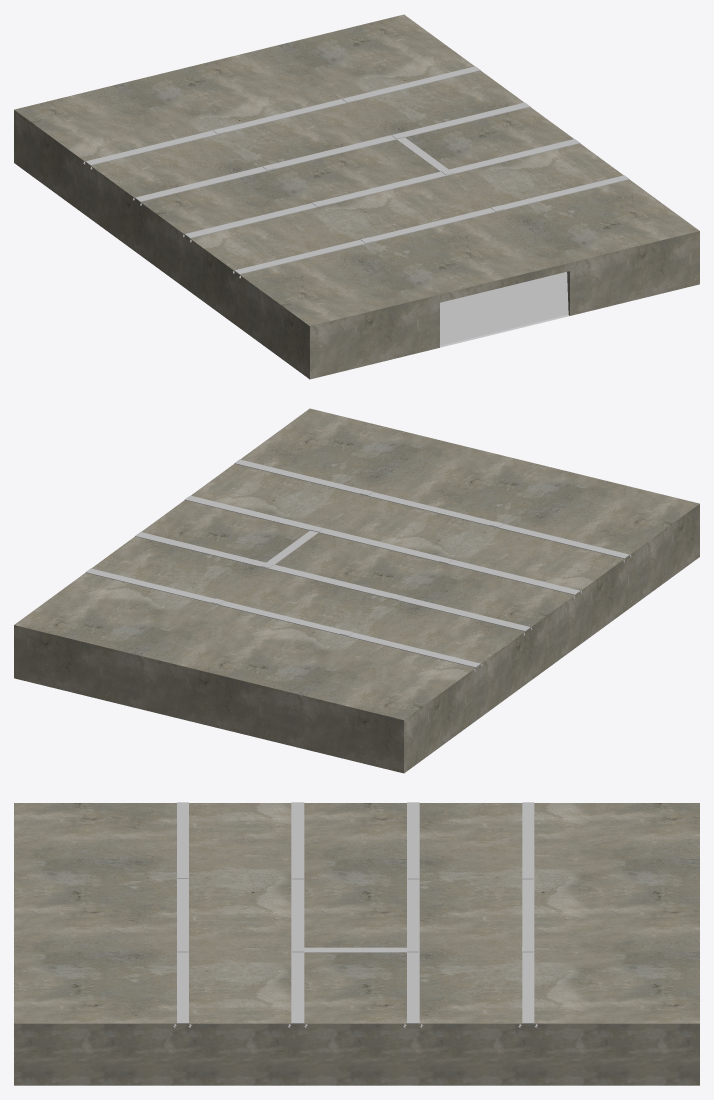
Rendered from old room 1.fbx.
3 views of the same model, one above another, from view 1: azimuth 30°, elevation 25°; view 2: azimuth 150°, elevation 25°; view 3: azimuth 270°, elevation 25° (orthographic). The views are drawn at different scales.
Visible parts, largest first — view 1: Cube.009, Cube.010, Cube.012, Cube.011, Cube.013; view 2: Cube.009, Cube.012, Cube.010, Cube.013, Cube.011; view 3: Cube.009, Cube.010, Cube.012, Cube.013, Cube.011, Cube.015.
Boxes of the visible parts, <box> form: Cube.009: <box>14,14,699,379</box>; Cube.010: <box>184,139,579,238</box>; Cube.012: <box>135,102,530,201</box>; Cube.011: <box>234,175,629,274</box>; Cube.013: <box>85,66,480,165</box>; Cube.009: <box>14,408,699,773</box>; Cube.012: <box>135,532,530,631</box>; Cube.010: <box>184,495,579,595</box>; Cube.013: <box>85,568,480,667</box>; Cube.011: <box>234,459,629,558</box>; Cube.009: <box>14,803,699,1085</box>; Cube.010: <box>291,802,304,1023</box>; Cube.012: <box>407,802,419,1023</box>; Cube.013: <box>522,802,534,1023</box>; Cube.011: <box>177,802,188,1023</box>; Cube.015: <box>304,947,406,952</box>.
Bounding box in the file's own units: 9111 × 1228 × 11947.
